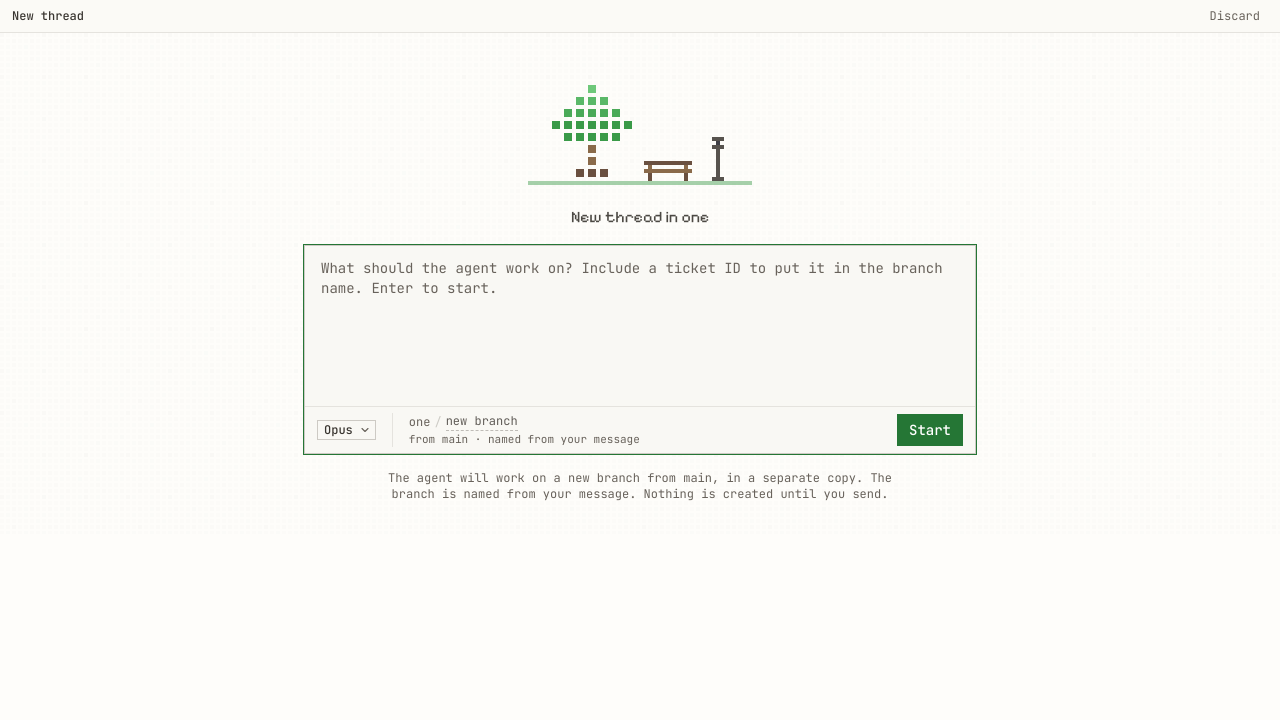
Test case: DraftPane › shows a failed start and keeps the draft
Click the button "Start" at [930, 430], box [897, 414, 963, 446]
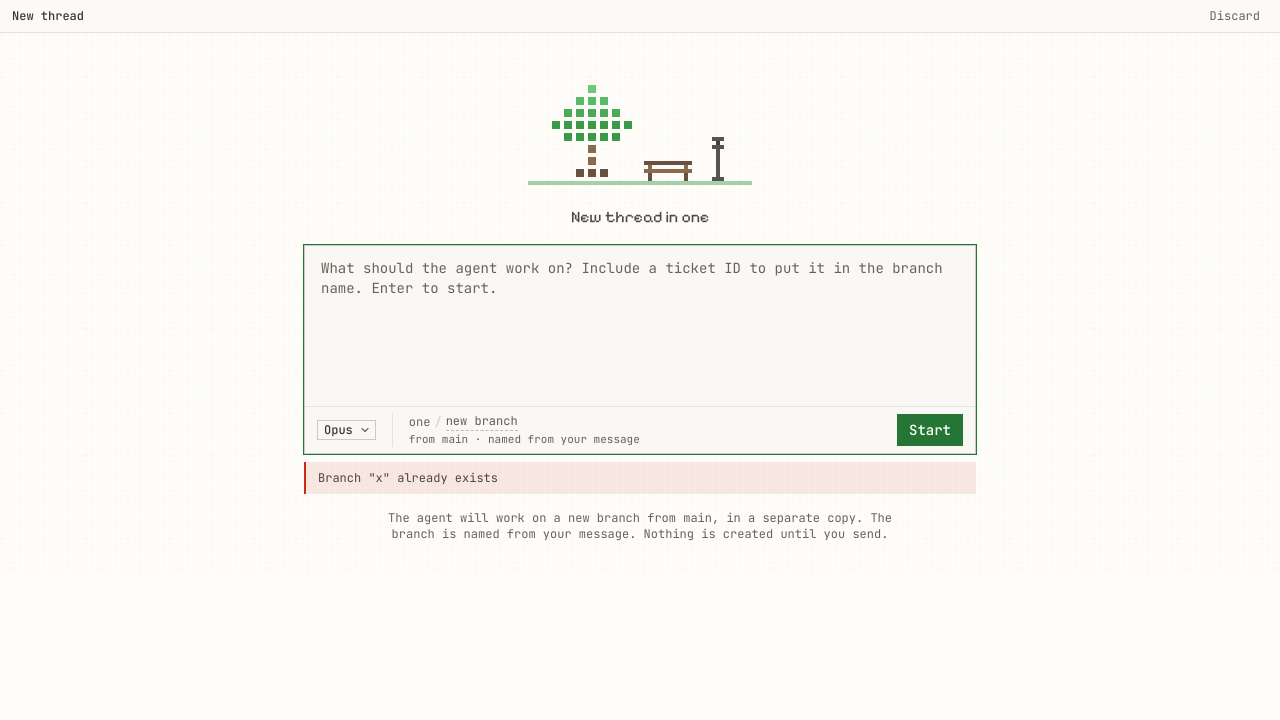
Now the message shows "already exists", box [318, 470, 498, 486]
